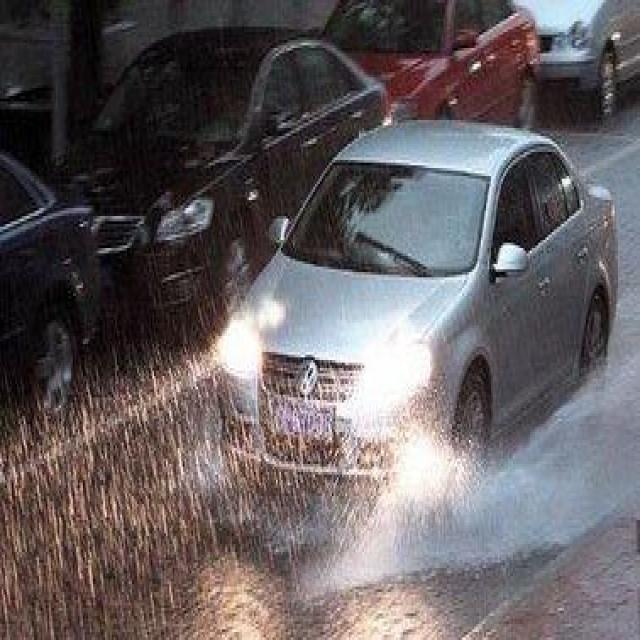car: (214, 118, 616, 478), (46, 24, 390, 334), (0, 149, 97, 419)
